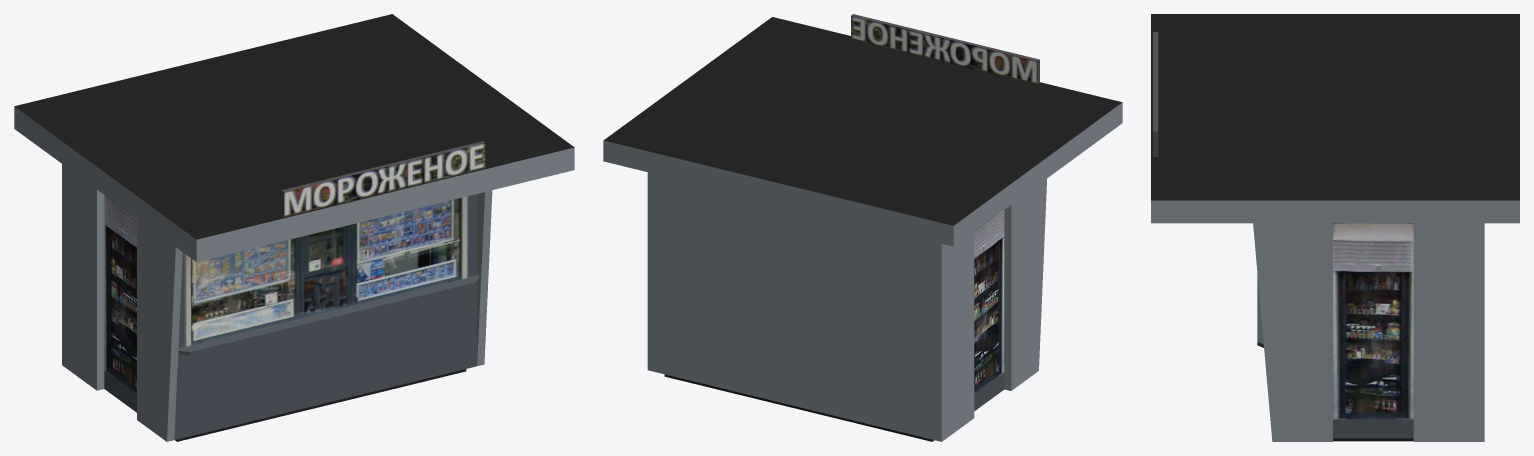
The model's file is sf_kiosk_a.glb.
The picture shows the model from 3 angles, left to right: view 1: azimuth 30°, elevation 25°; view 2: azimuth 150°, elevation 25°; view 3: azimuth 270°, elevation 25°; orthographic projection. The views are drawn at different scales.
Visible parts, largest first — view 1: Ice Cream Stall; view 2: Ice Cream Stall; view 3: Ice Cream Stall.
Boxes of the visible parts, x1=… form: Ice Cream Stall: x1=14, y1=14, x2=574, y2=441; Ice Cream Stall: x1=603, y1=14, x2=1122, y2=441; Ice Cream Stall: x1=1151, y1=14, x2=1519, y2=441.
Bounding box in the file's own units: 4.37 × 3.15 × 3.65.
8 materials, 3 textured.
